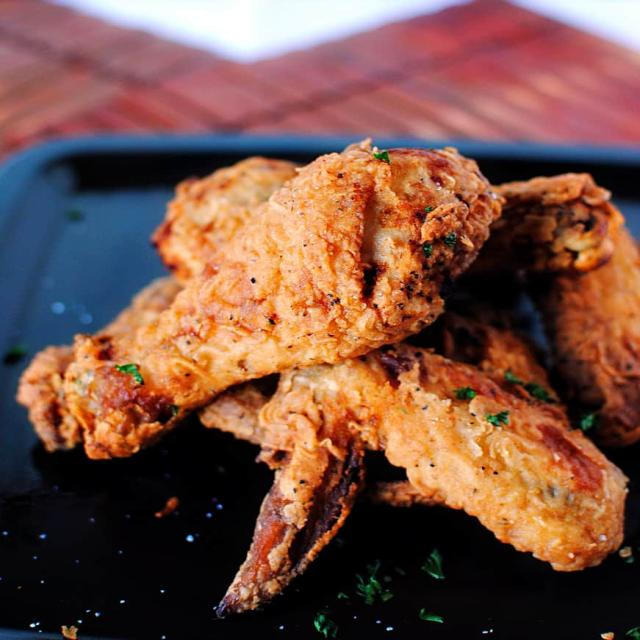Frango: (21, 139, 639, 620)
